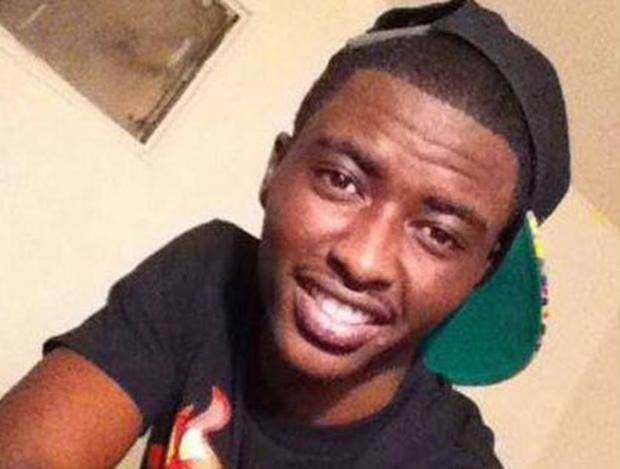face_no_mask: (266, 32, 524, 378)
